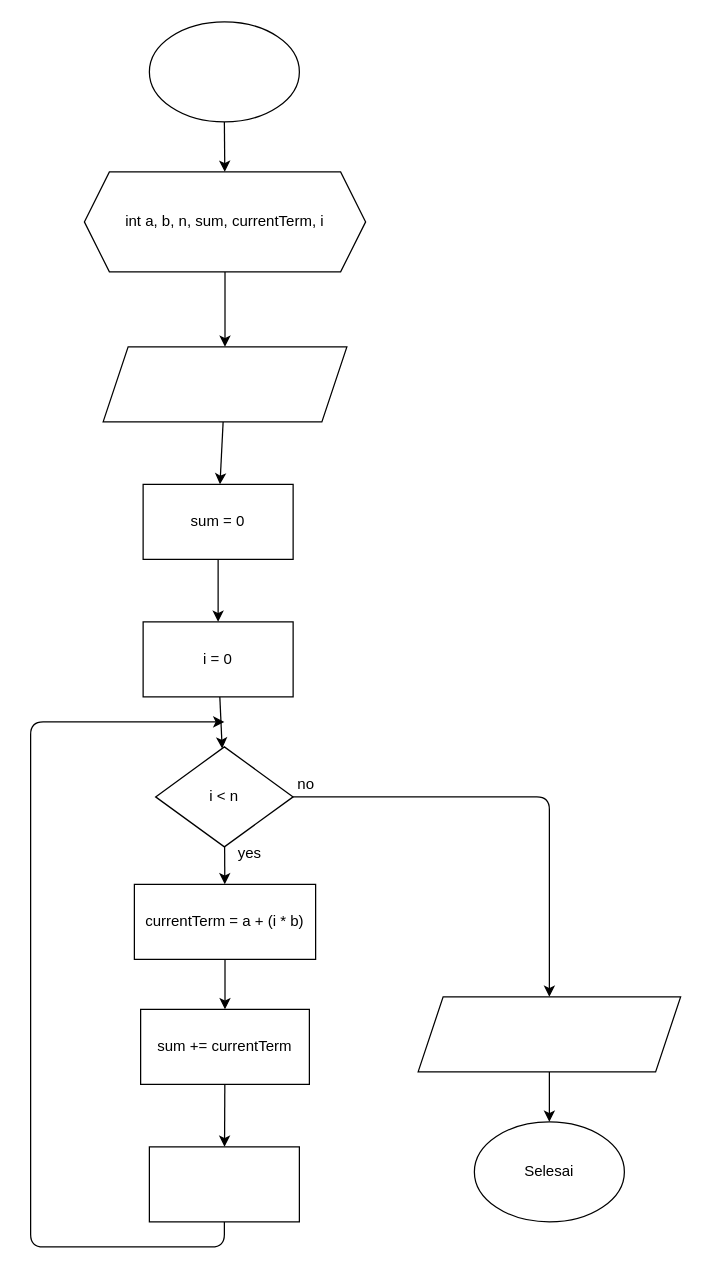
This 703x1279 diagram has some shape labels left out. Each missing label, with the box of its shape:
i ++: (148, 1146, 299, 1222)
Input(a, b, n): (102, 346, 347, 422)
Mulai: (148, 21, 299, 122)
Output("Hasil penjumlahan deret matika adalah: " sum): (417, 996, 681, 1072)
